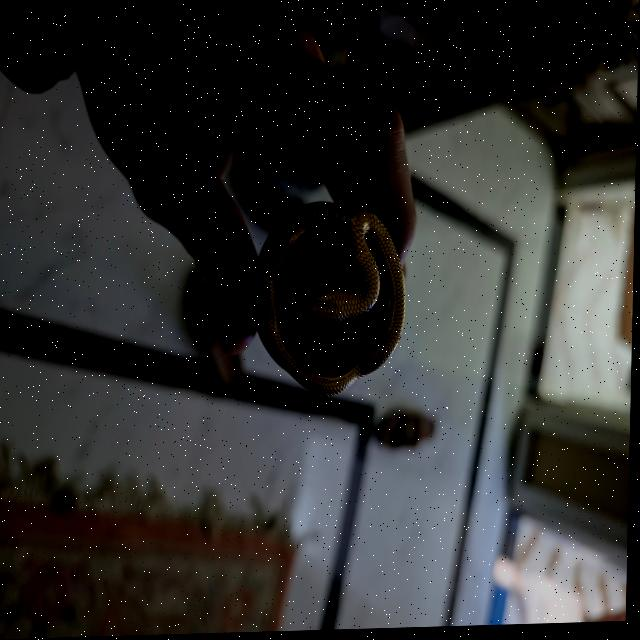Teriaq-Intense: (250, 200, 410, 402)
